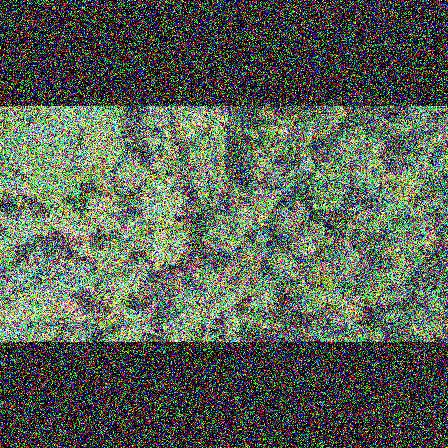Dead: (137, 277, 177, 318)
